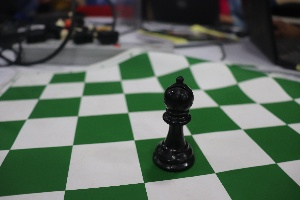black_bishop: (145, 65, 201, 177)
